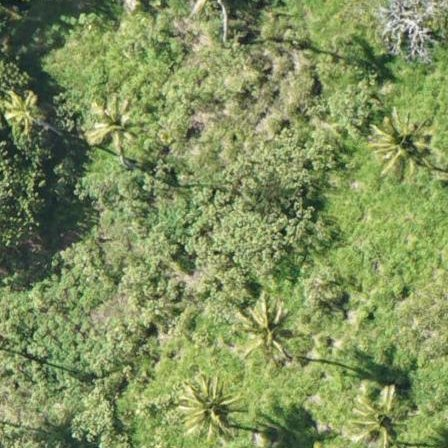palm_tree: (172, 366, 242, 440), (233, 293, 298, 362), (369, 105, 431, 172), (346, 379, 408, 445), (85, 101, 138, 149), (1, 88, 46, 140)
